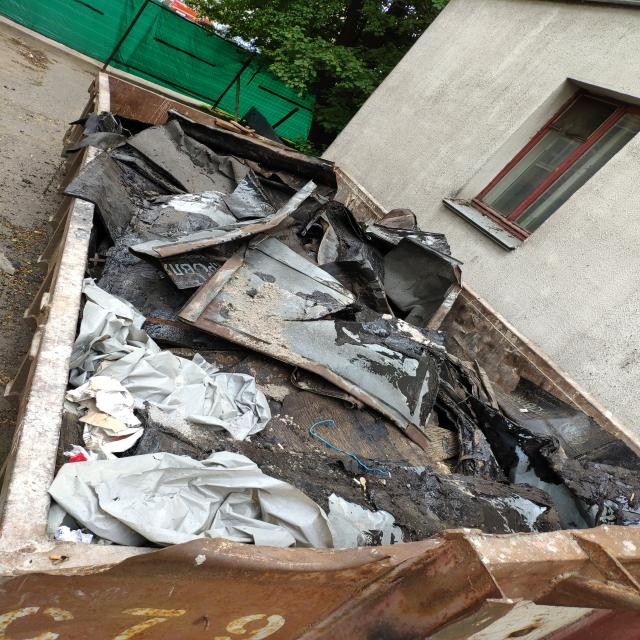entulho: (179, 243, 452, 419), (470, 368, 640, 528), (51, 447, 272, 543), (132, 111, 347, 190), (116, 346, 282, 442), (165, 154, 338, 218), (61, 370, 158, 455), (212, 487, 339, 548), (138, 230, 244, 292), (77, 281, 150, 356), (355, 216, 457, 268)
